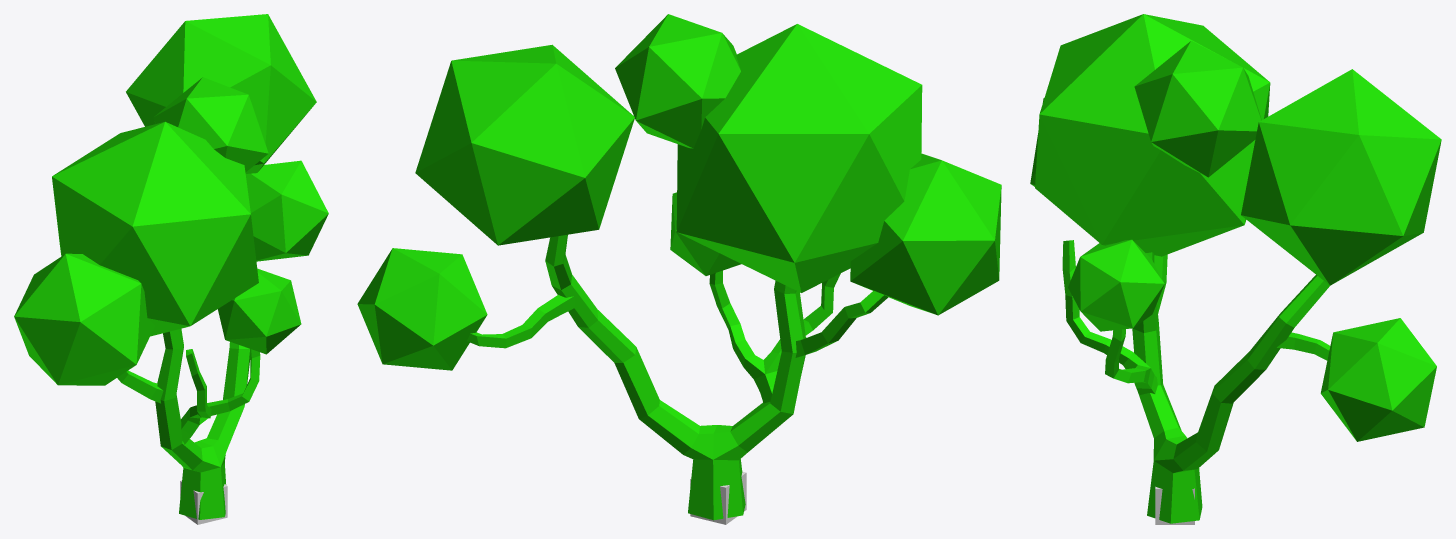
Rendered from tree.glb.
3 renders of one model, left to right at view 1: azimuth 30°, elevation 25°; view 2: azimuth 150°, elevation 25°; view 3: azimuth 270°, elevation 25°, orthographic. The views are drawn at different scales.
Parts seen in each view (by area): view 1: Tree_lp_11, Cube; view 2: Tree_lp_11; view 3: Tree_lp_11.
Boxes of the visible parts, x1,y1,x2,y2 form: Tree_lp_11: (14, 14, 328, 519); Cube: (180, 480, 227, 524); Tree_lp_11: (357, 14, 1001, 520); Tree_lp_11: (1030, 14, 1441, 523).
Bounding box in the file's own units: 27.98 × 26.8 × 20.8.
